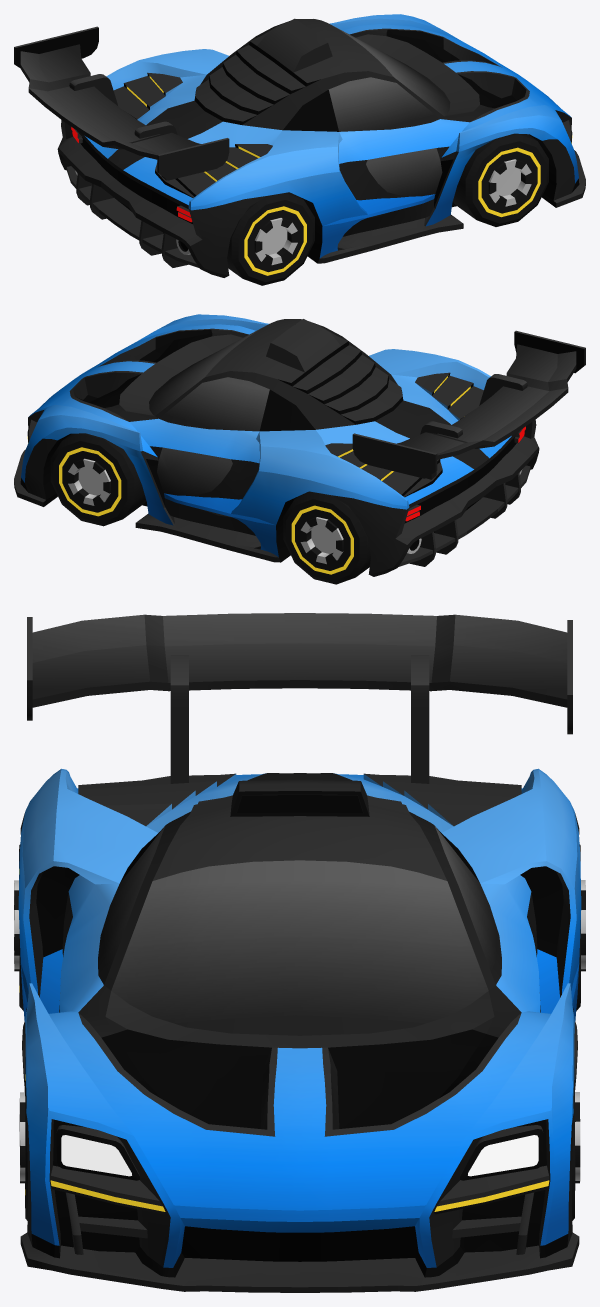
File: RaceCar_089.glb
3 views of the same model, one above another, from view 1: azimuth 30°, elevation 25°; view 2: azimuth 150°, elevation 25°; view 3: azimuth 270°, elevation 25° (orthographic). The views are drawn at different scales.
Parts seen in each view (by area): view 1: RaceCar_089, wheel_1_RaceCar_089_Wheel_1R, wheel_3_RaceCar_089_Wheel_2R; view 2: RaceCar_089, wheel_0_RaceCar_089_Wheel_1L, wheel_2_RaceCar_089_Wheel_2L; view 3: RaceCar_089, wheel_0_RaceCar_089_Wheel_1L, wheel_1_RaceCar_089_Wheel_1R.
Part boxes in pixels (x1,y1,x2,y2): RaceCar_089: (14,14,585,277); wheel_1_RaceCar_089_Wheel_1R: (453,133,548,226); wheel_3_RaceCar_089_Wheel_2R: (227,192,314,285); RaceCar_089: (14,314,585,576); wheel_0_RaceCar_089_Wheel_1L: (50,433,146,526); wheel_2_RaceCar_089_Wheel_2L: (283,491,370,584); RaceCar_089: (18,613,581,1292); wheel_0_RaceCar_089_Wheel_1L: (572,1057,580,1220); wheel_1_RaceCar_089_Wheel_1R: (19,1057,27,1220).
Size of the model in its own units: 3.76 by 1.27 by 2.09.
2 materials, 2 textured.
